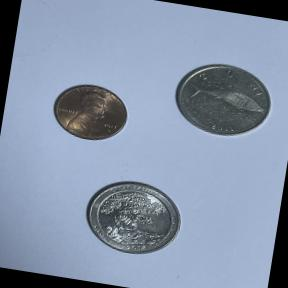coin: (162, 53, 282, 148), (72, 170, 192, 264), (41, 74, 139, 152)
